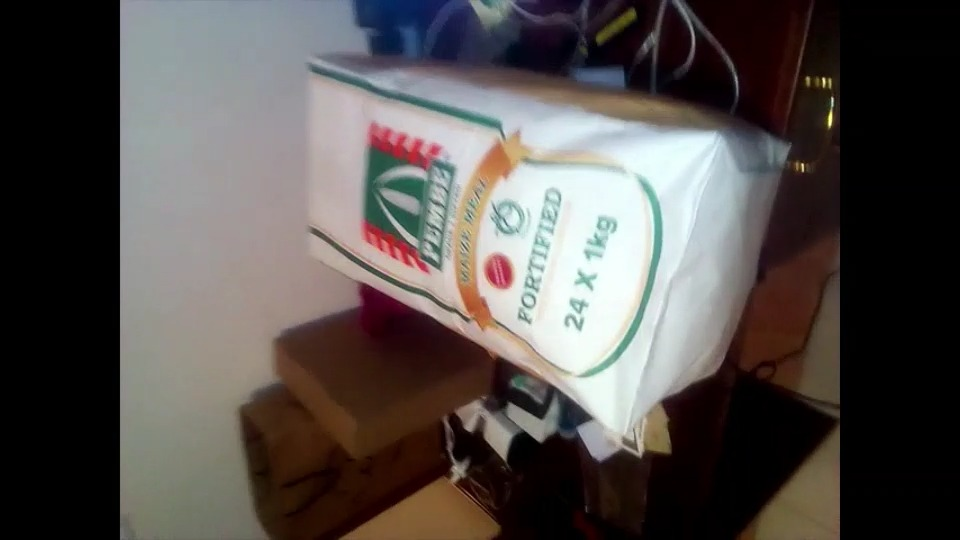maize_flour_green_label: (305, 52, 793, 417)
